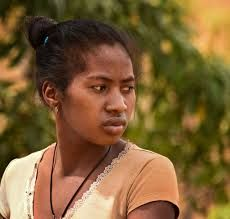no-mask: (34, 16, 142, 146)
